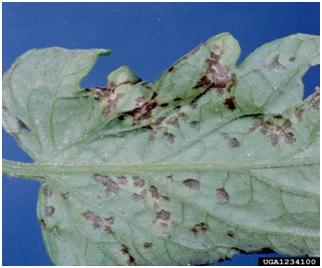Tomato leaf late blight: (4, 31, 321, 259)
